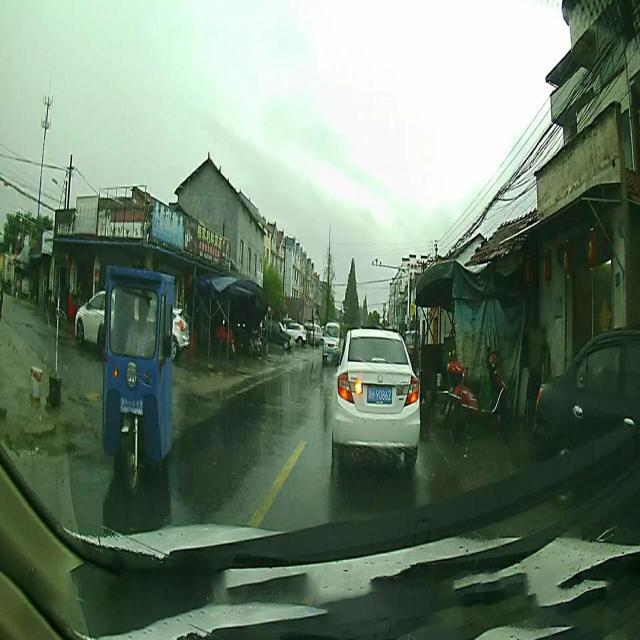car: (531, 314, 640, 517), (328, 320, 420, 468), (319, 310, 342, 370)
